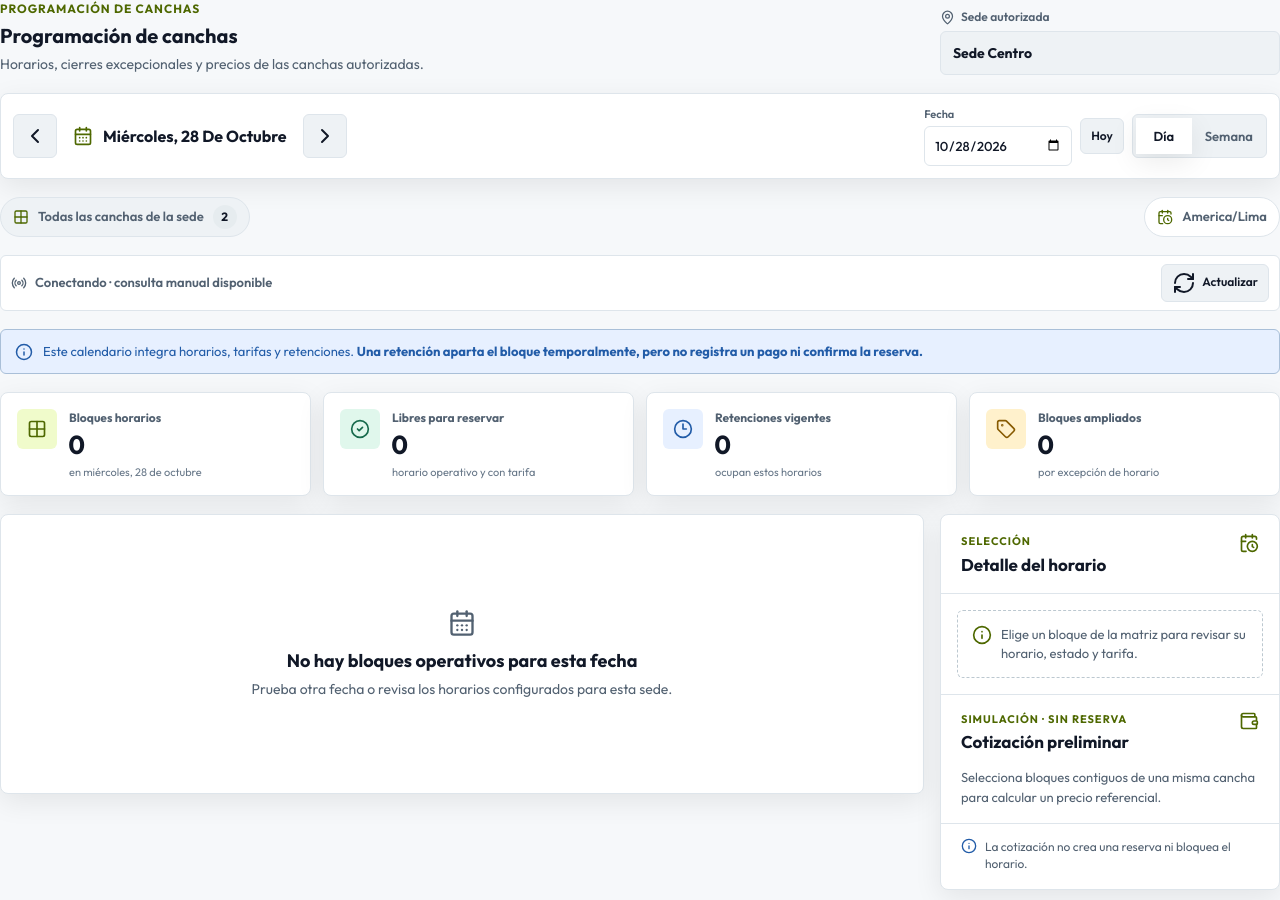
Test case: calendario de la Fase 3D › muestra la matriz administrativa de todas las canchas de la sede con disponibilidad real
Type "2026-10-23" into the date field labelled "Fecha".
click(998, 146); type("2026-10-23")  # box [924,126,1072,166]
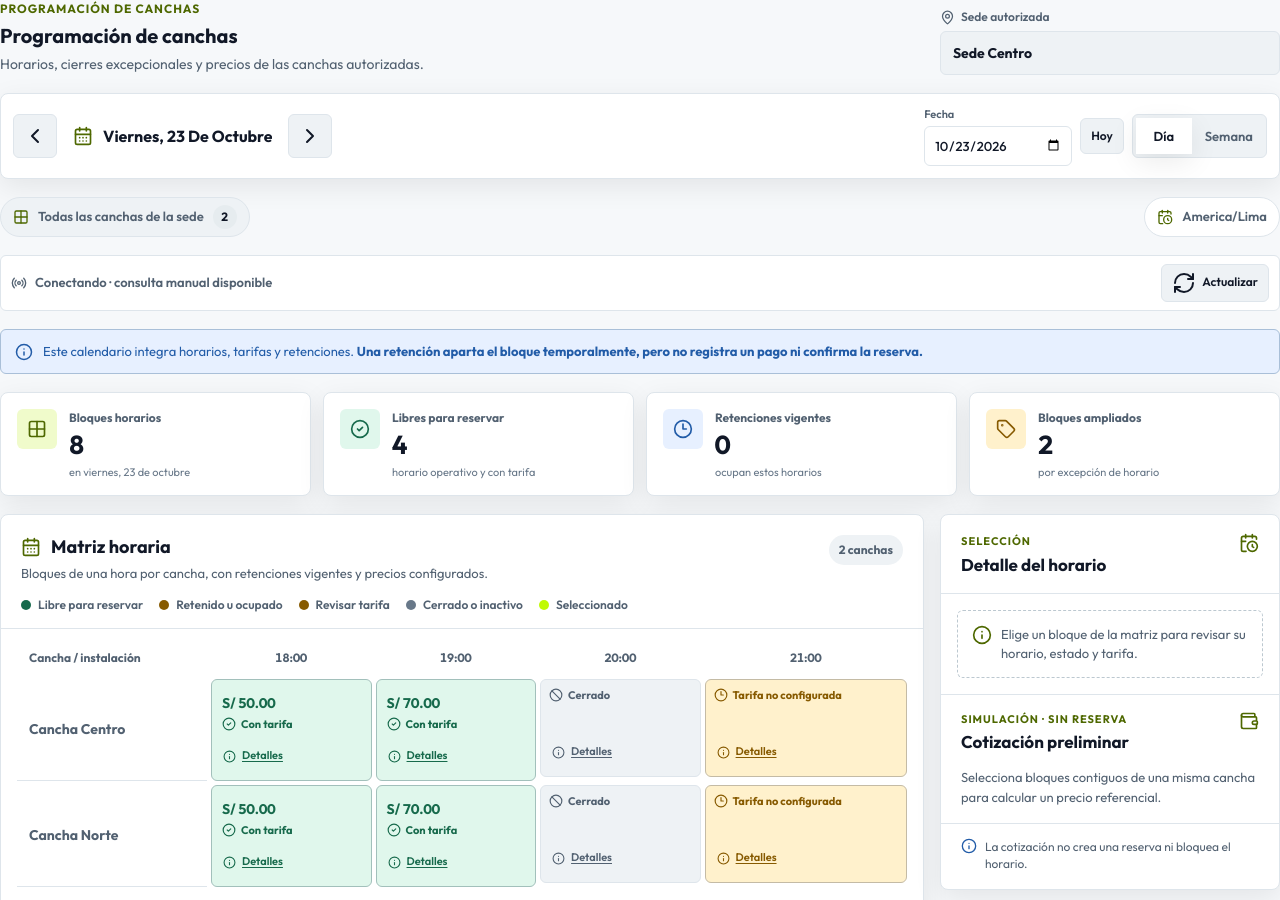
expect the text "Cancha Centro" is shown: met, box [29,720,125,738]
expect the text "Cancha Norte" is shown: met, box [29,826,118,844]
